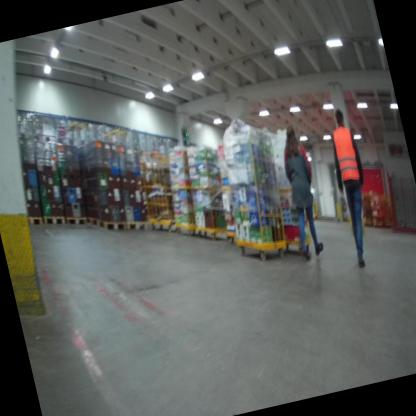pallet: (85, 207, 128, 239), (125, 217, 154, 237), (42, 210, 68, 231), (64, 211, 89, 230), (26, 212, 44, 229)
